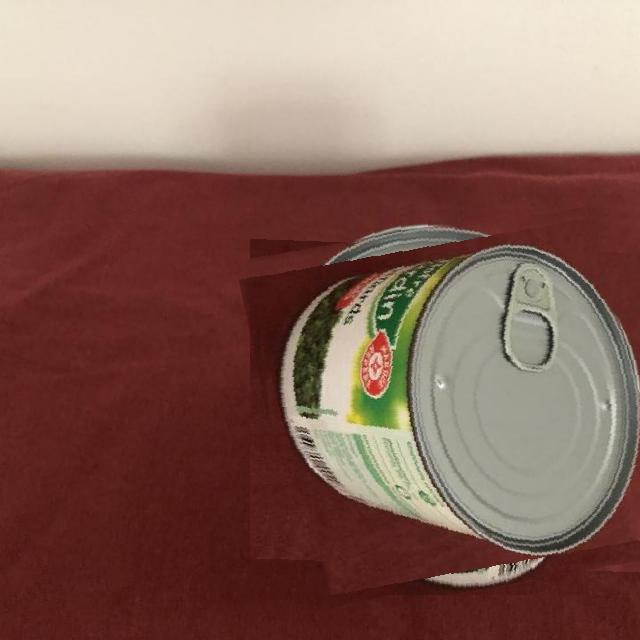recyclable: (251, 203, 640, 595)
